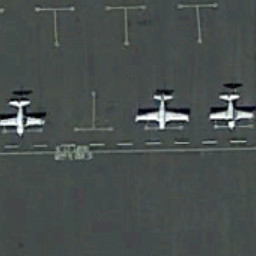Airplane: (124, 81, 193, 139), (1, 87, 46, 146), (208, 87, 254, 132)
